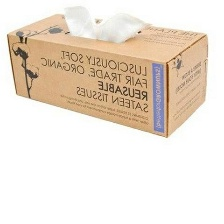book: (1, 10, 213, 142)
tissue: (55, 0, 157, 48)
